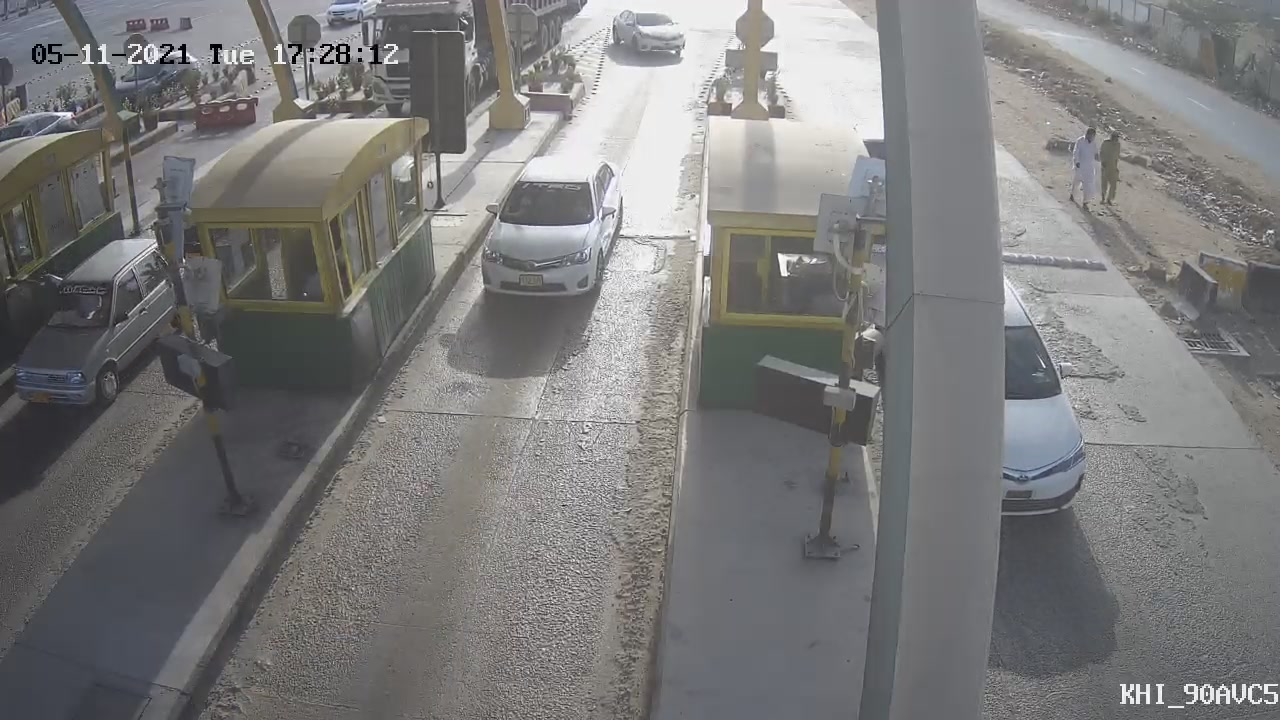F1: (464, 129, 643, 319)
